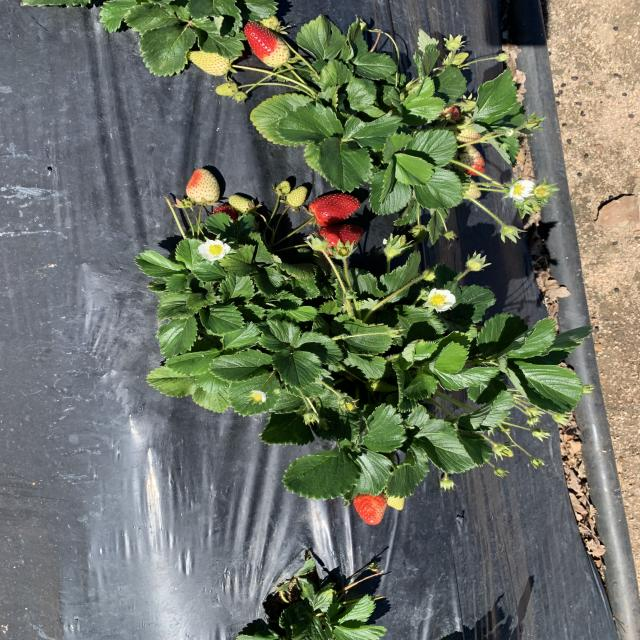unripe: (245, 22, 293, 64), (305, 192, 364, 224), (351, 489, 391, 528), (314, 224, 367, 253), (212, 204, 239, 228)
